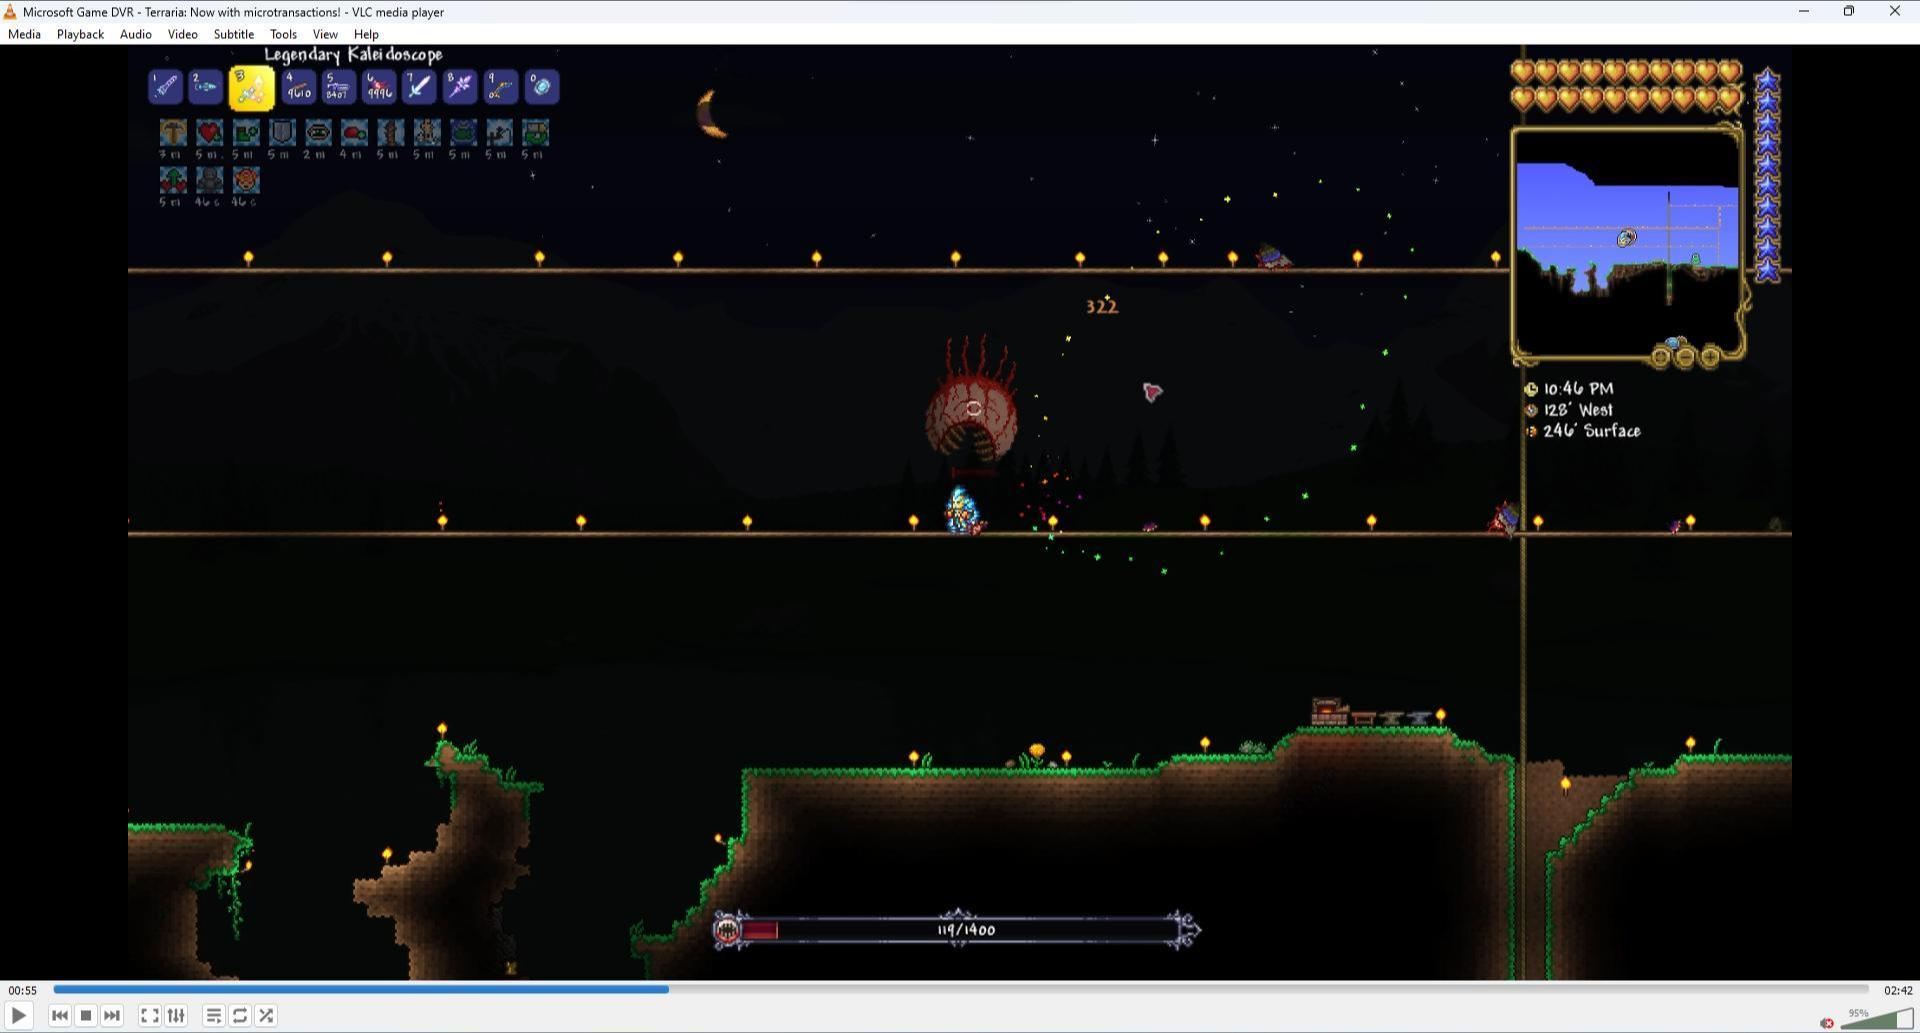eyeC: (924, 328, 1024, 466)
